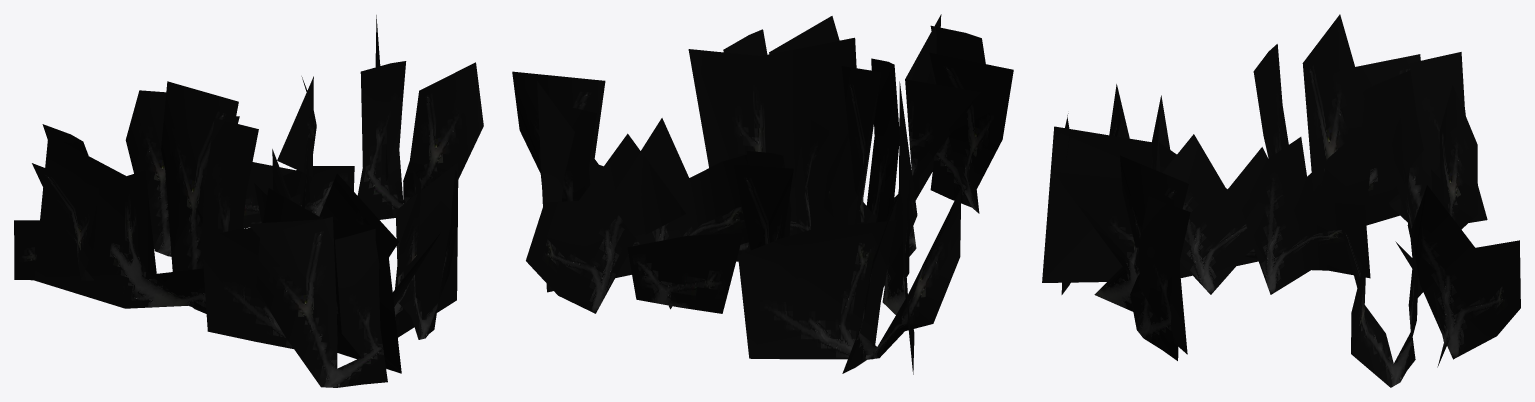
3 views of the same model, side by side, from view 1: azimuth 30°, elevation 25°; view 2: azimuth 150°, elevation 25°; view 3: azimuth 270°, elevation 25° (orthographic). The views are drawn at different scales.
Parts seen in each view (by area): view 1: body0_model0_lod0_mesh0; view 2: body0_model0_lod0_mesh0; view 3: body0_model0_lod0_mesh0.
Boxes of the visible parts, x1,y1,x2,y2 form: body0_model0_lod0_mesh0: [14, 15, 483, 387]; body0_model0_lod0_mesh0: [512, 14, 1013, 374]; body0_model0_lod0_mesh0: [1042, 14, 1520, 387].
Bounding box in the file's own units: 229 × 120 × 208.
1 material, 1 textured.
